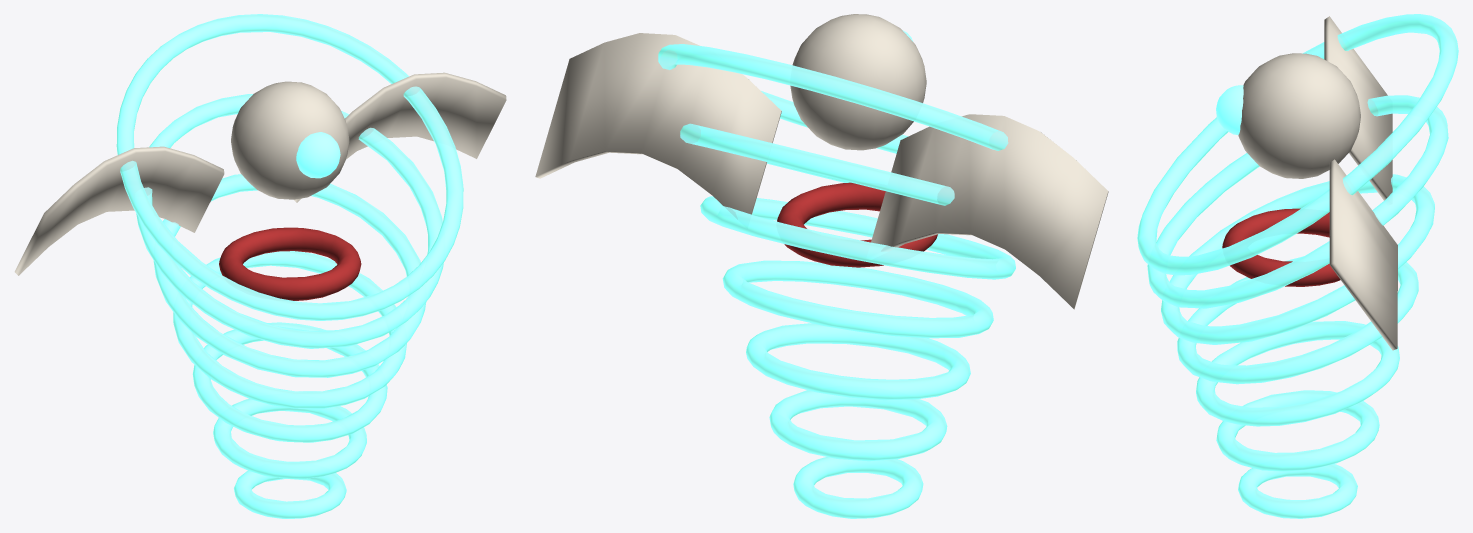
The model's file is elemair.glb.
3 renders of one model, left to right at view 1: azimuth 30°, elevation 25°; view 2: azimuth 150°, elevation 25°; view 3: azimuth 270°, elevation 25°, orthographic. The views are drawn at different scales.
Parts seen in each view (by area): view 1: ether_soft, white, team, ether; view 2: white, ether_soft, team; view 3: ether_soft, white, team, ether.
Part boxes in pixels (x1,y1,x2,y2): ether_soft: [116, 14, 463, 518]; white: [14, 72, 506, 275]; team: [219, 227, 361, 300]; ether: [296, 132, 340, 178]; white: [535, 14, 1108, 309]; ether_soft: [658, 44, 1015, 518]; team: [777, 182, 937, 267]; ether_soft: [1137, 14, 1458, 518]; white: [1238, 16, 1397, 350]; team: [1222, 208, 1340, 286]; ether: [1216, 85, 1243, 134].
Bounding box in the file's own units: 0.7228 × 0.6338 × 0.4069.
